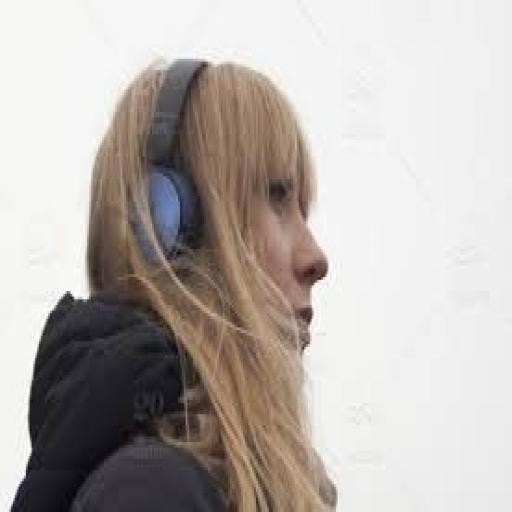listening_to_music: (4, 53, 341, 509)
